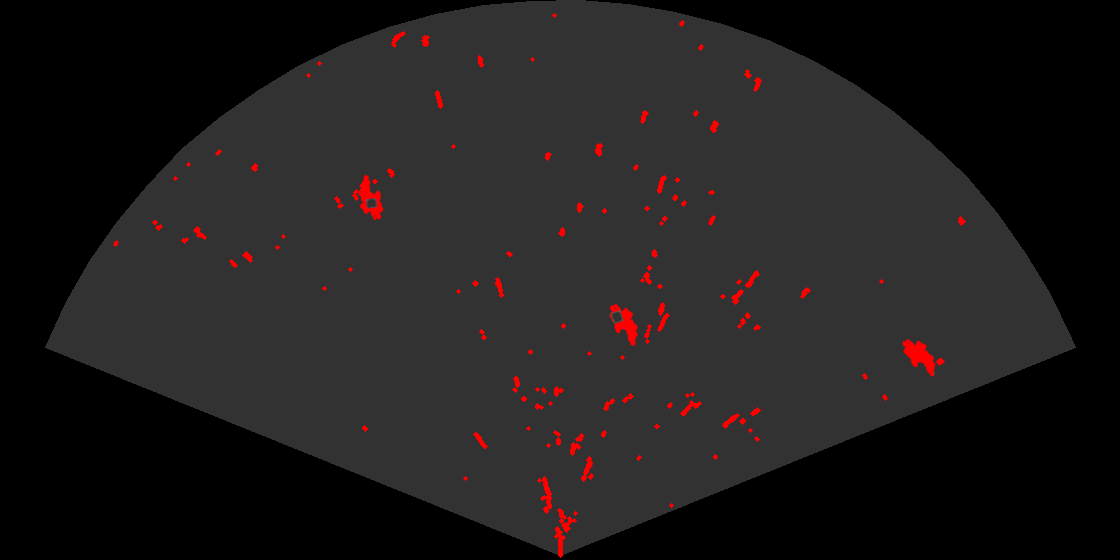AUV: (901, 337, 937, 378), (608, 302, 640, 348), (357, 173, 385, 222)
